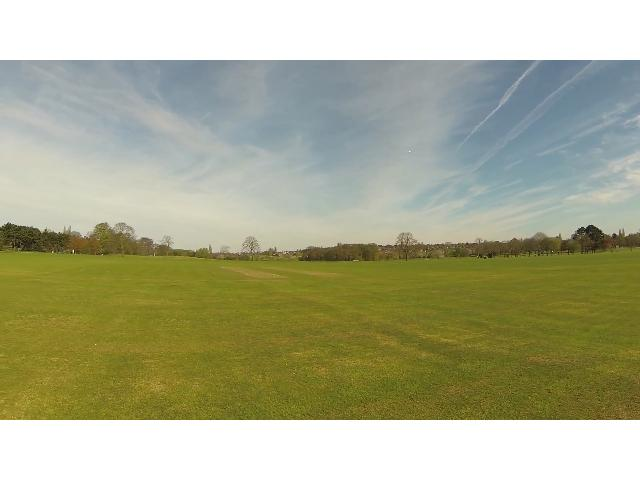Anti-Drone: (396, 143, 420, 157)
